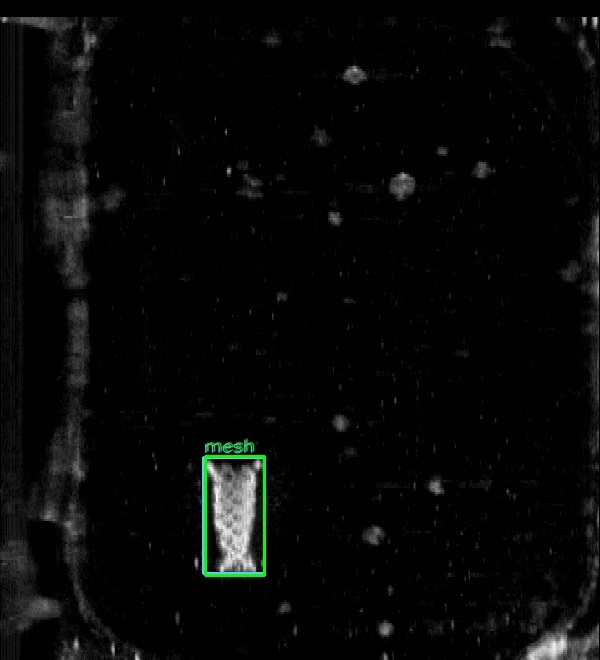mesh: (203, 457, 264, 573)
